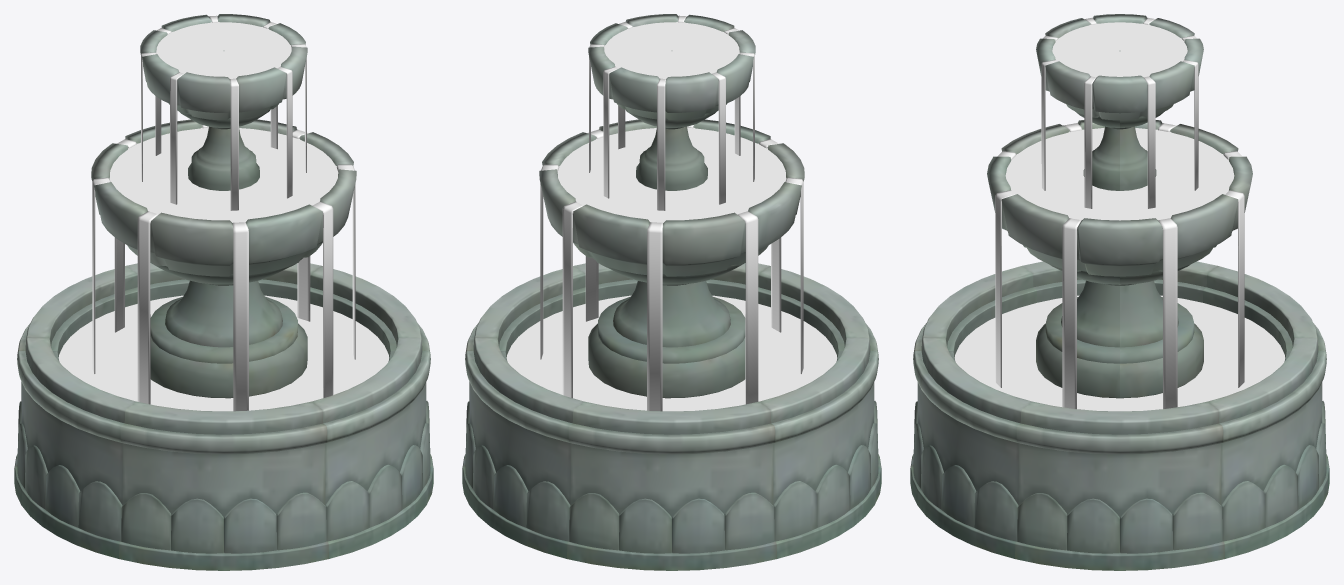
Rendered from SM_Fountain_11dce6.glb.
3 views of the same model, side by side, from view 1: azimuth 30°, elevation 25°; view 2: azimuth 150°, elevation 25°; view 3: azimuth 270°, elevation 25° (orthographic).
Bounding box in the file's own units: 2.01 × 2.29 × 2.01.
3 materials, 1 textured.
